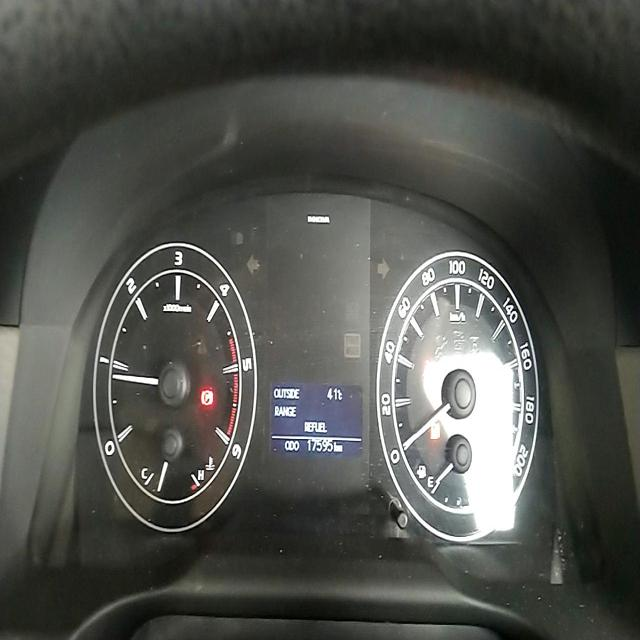odometer: (304, 437, 334, 454)
